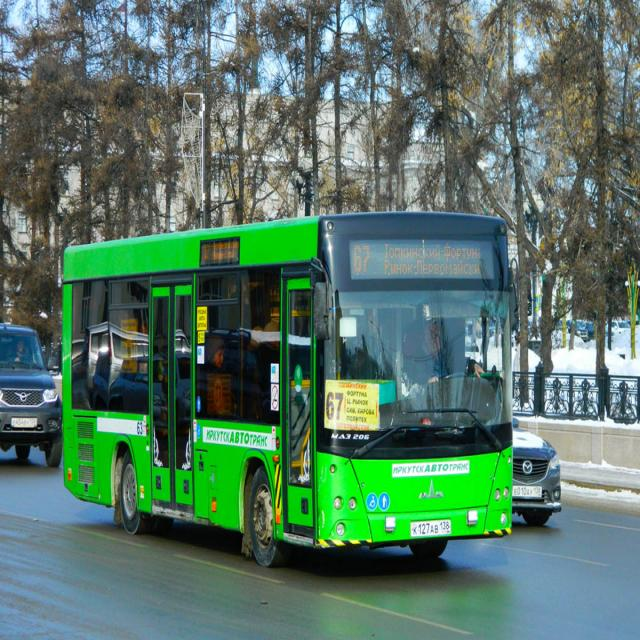number-of-bus: (326, 392, 346, 423)
